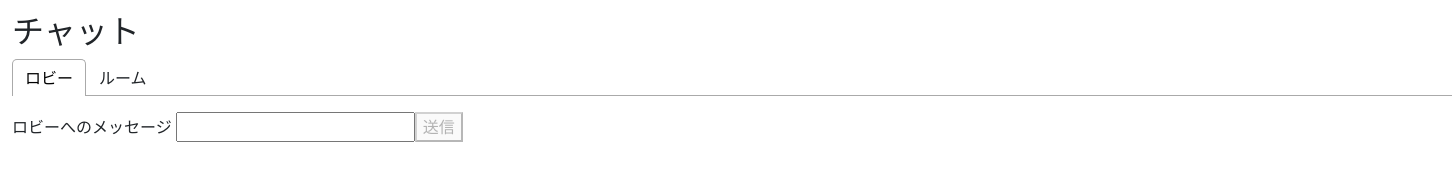
shows room chat panel when room tab is clicked
Step 1. Click the tab "ルーム" → (123, 78), box left=99, top=67, right=146, bottom=89
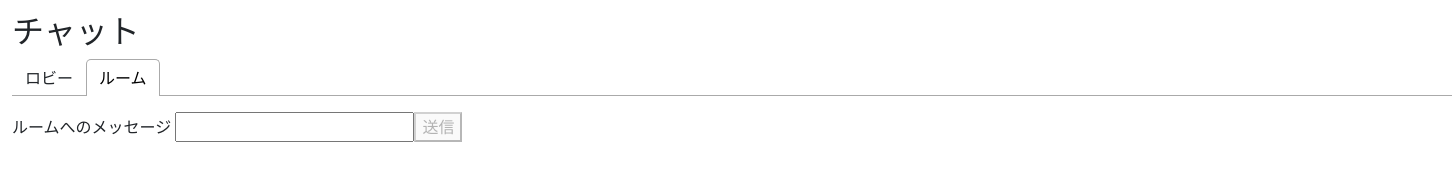
Expected: the button "送信" is shown, left=414, top=112, right=462, bottom=142
Result: the text "ルームへのメッセージ" is shown at left=12, top=112, right=414, bottom=142
